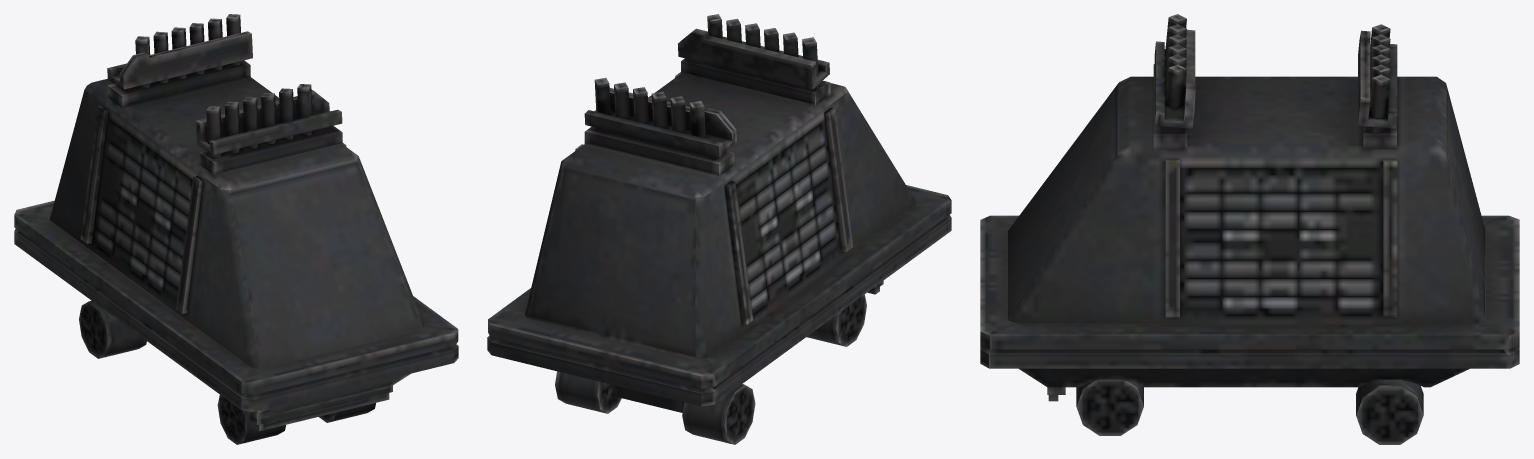
Rendered from char_mse6_pre.glb.
3 renders of one model, left to right at view 1: azimuth 30°, elevation 25°; view 2: azimuth 150°, elevation 25°; view 3: azimuth 270°, elevation 25°, orthographic. The views are drawn at different scales.
Parts seen in each view (by area): view 1: unit.char_mse6_pre; view 2: unit.char_mse6_pre; view 3: unit.char_mse6_pre.
Boxes of the visible parts, left/top/right/bottom form: unit.char_mse6_pre: left=14, top=14, right=458, bottom=444; unit.char_mse6_pre: left=487, top=14, right=951, bottom=444; unit.char_mse6_pre: left=980, top=14, right=1519, bottom=444.
Bounding box in the file's own units: 0.2238 × 0.3059 × 0.4243.
Materials: 1 (1 with a texture image).
